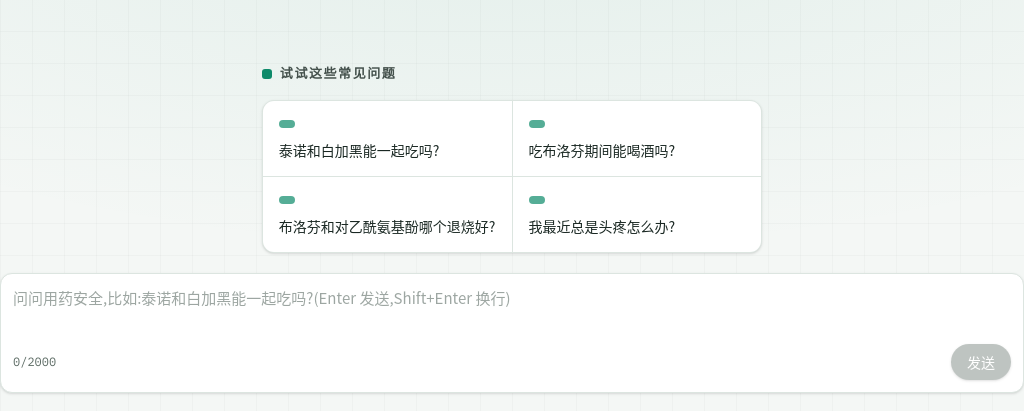
Test: ChatView › blocked 响应渲染边界话术
Click the button "我最近总是头疼怎么办?" at (637, 214), box [512, 177, 761, 252]
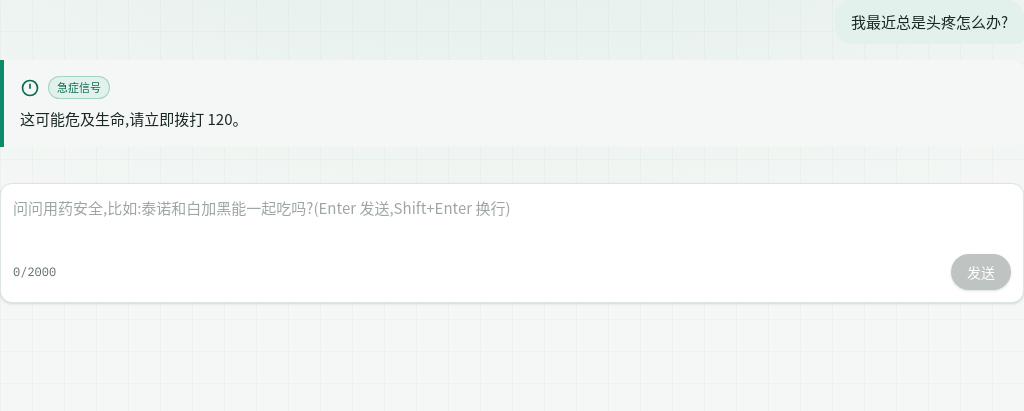
Expected: the text "这可能危及生命,请立即拨打 120。" is shown, [20, 108, 248, 129]
